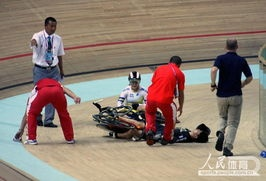falling: (110, 112, 212, 145)
